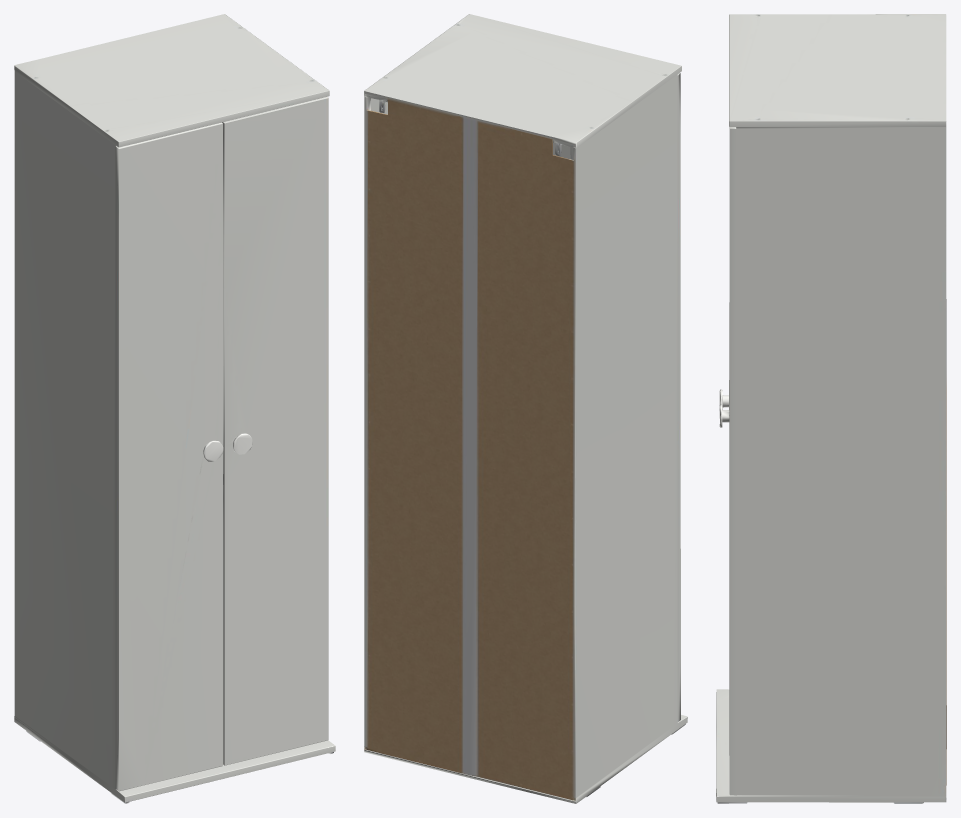
Rendered from wardrobe-3.glb.
3 views of the same model, side by side, from view 1: azimuth 30°, elevation 25°; view 2: azimuth 150°, elevation 25°; view 3: azimuth 270°, elevation 25° (orthographic). The views are drawn at different scales.
Visible parts, largest first — view 1: ASY_ART_80576512_S01_NV01; view 2: ASY_ART_80576512_S01_NV01; view 3: ASY_ART_80576512_S01_NV01.
Boxes of the visible parts, x1=… form: ASY_ART_80576512_S01_NV01: x1=14, y1=14, x2=335, y2=803; ASY_ART_80576512_S01_NV01: x1=364, y1=14, x2=687, y2=803; ASY_ART_80576512_S01_NV01: x1=716, y1=14, x2=946, y2=803.
Size of the model in its own units: 0.5976 by 1.78 by 0.5446.
Materials: 1 (1 with a texture image).
